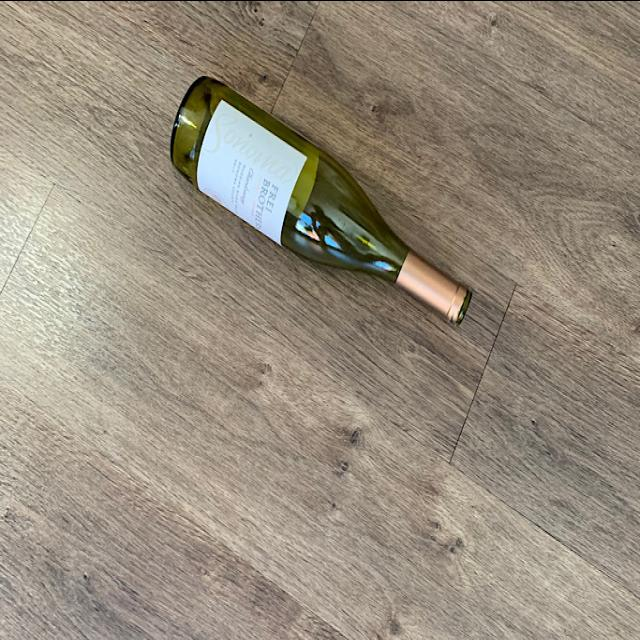litter: (165, 79, 474, 329)
